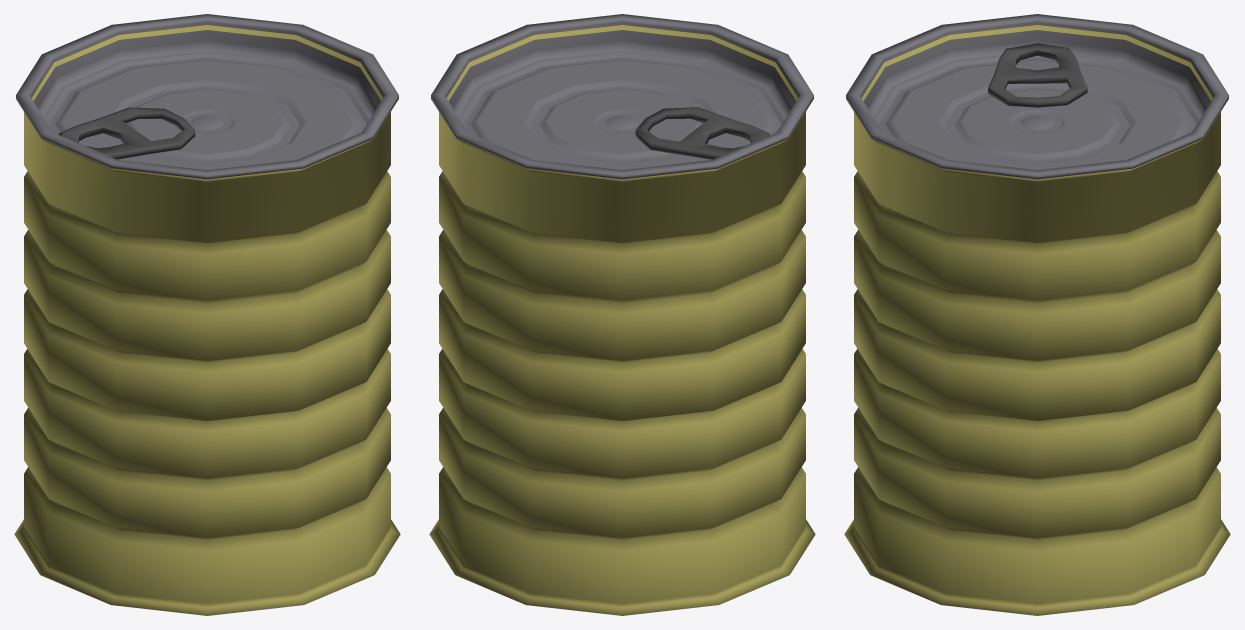
File: LataAmarela.fbx
The picture shows the model from 3 angles, left to right: view 1: azimuth 30°, elevation 25°; view 2: azimuth 150°, elevation 25°; view 3: azimuth 270°, elevation 25°; orthographic projection.
Parts seen in each view (by area): view 1: Lata1.retopo, Tampa1.retopo; view 2: Lata1.retopo, Tampa1.retopo; view 3: Lata1.retopo, Tampa1.retopo.
Part boxes in pixels (x1,y1,x2,y2): Lata1.retopo: (14, 25, 400, 615); Tampa1.retopo: (16, 14, 398, 179); Lata1.retopo: (429, 25, 815, 615); Tampa1.retopo: (431, 14, 813, 179); Lata1.retopo: (844, 25, 1230, 615); Tampa1.retopo: (846, 14, 1228, 179).
Size of the model in its own units: 70.79 by 88.83 by 70.79.
